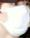with_mask: (2, 1, 30, 38)
